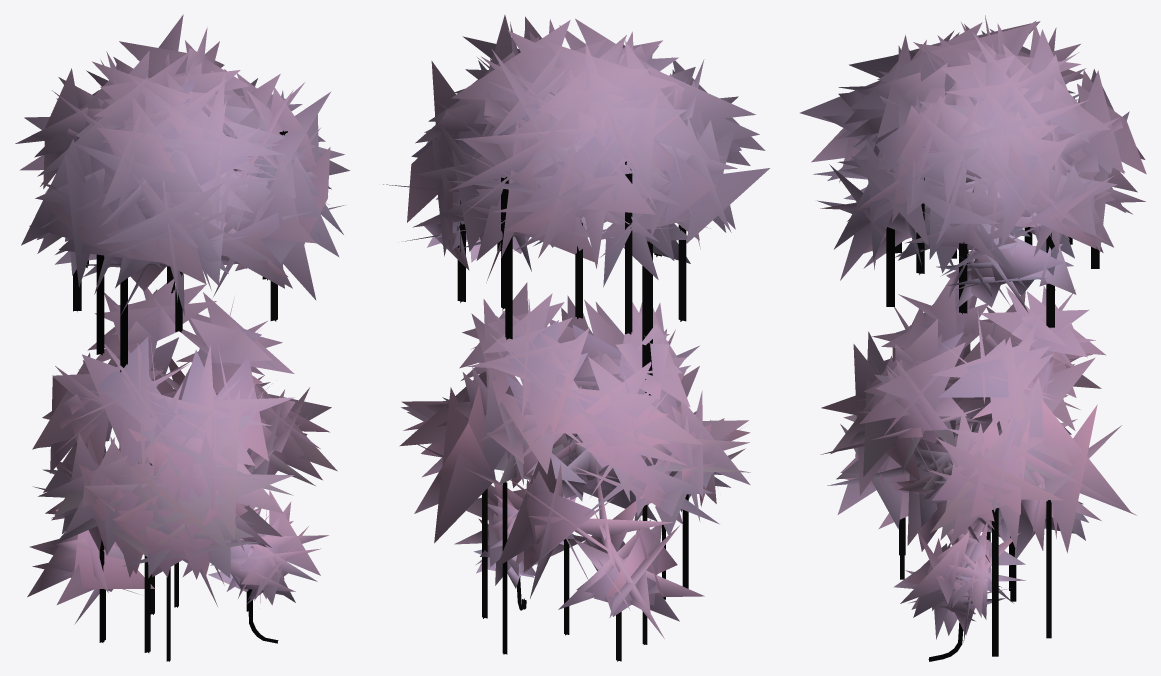
3 renders of one model, left to right at view 1: azimuth 30°, elevation 25°; view 2: azimuth 150°, elevation 25°; view 3: azimuth 270°, elevation 25°, orthographic. The views are drawn at different scales.
Visible parts, largest first — view 1: G:\FFXIV-MapTools\exports\n4t1\bg\ex3\01_nvt_n4\twn\n4t1\bgp (×2); view 2: G:\FFXIV-MapTools\exports\n4t1\bg\ex3\01_nvt_n4\twn\n4t1\bgp (×2); view 3: G:\FFXIV-MapTools\exports\n4t1\bg\ex3\01_nvt_n4\twn\n4t1\bgp (×2).
Part boxes in pixels (x1,y1,x2,y2): G:\FFXIV-MapTools\exports\n4t1\bg\ex3\01_nvt_n4\twn\n4t1\bgp (×2): [15, 14, 349, 661]; G:\FFXIV-MapTools\exports\n4t1\bg\ex3\01_nvt_n4\twn\n4t1\bgp (×2): [383, 15, 769, 661]; G:\FFXIV-MapTools\exports\n4t1\bg\ex3\01_nvt_n4\twn\n4t1\bgp (×2): [800, 15, 1146, 661].
Bounding box in the file's own units: 51.94 × 91.58 × 48.23.
